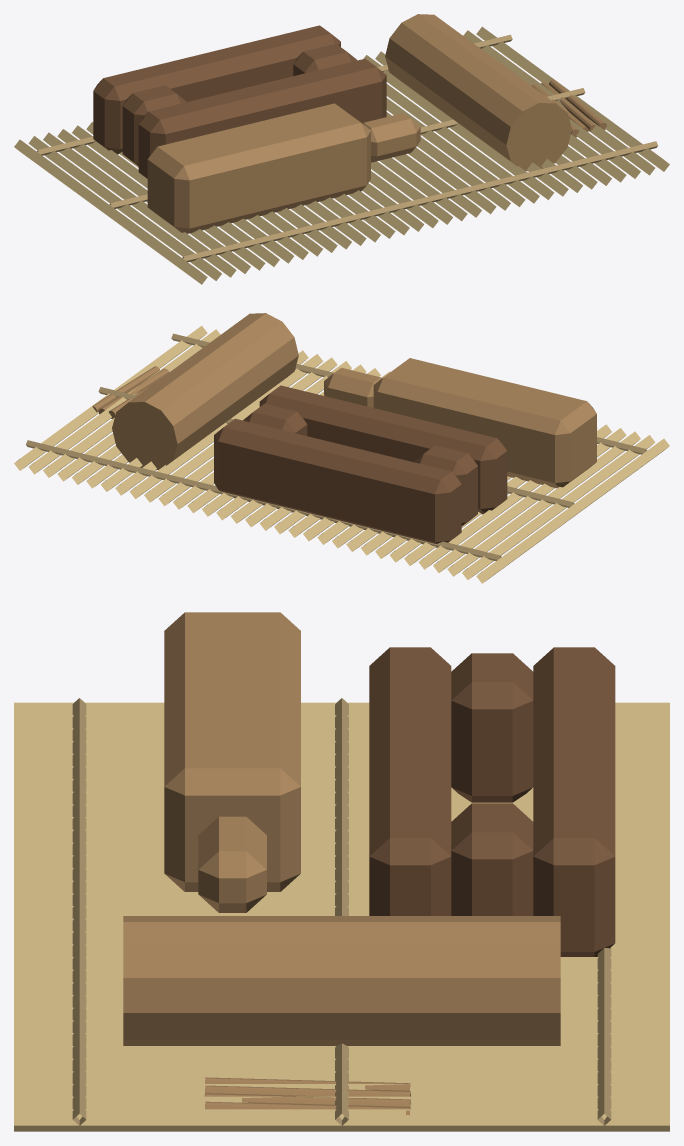
3 views of the same model, one above another, from view 1: azimuth 30°, elevation 25°; view 2: azimuth 150°, elevation 25°; view 3: azimuth 270°, elevation 25° (orthographic). The views are drawn at different scales.
Visible parts, largest first — view 1: BA-0057 batched; view 2: BA-0057 batched; view 3: BA-0057 batched.
Boxes of the visible parts, x1,y1,x2,y2 form: BA-0057 batched: [14, 14, 669, 284]; BA-0057 batched: [14, 313, 669, 583]; BA-0057 batched: [14, 612, 669, 1131].
Size of the model in its own units: 0.729 by 0.112 by 0.48.
